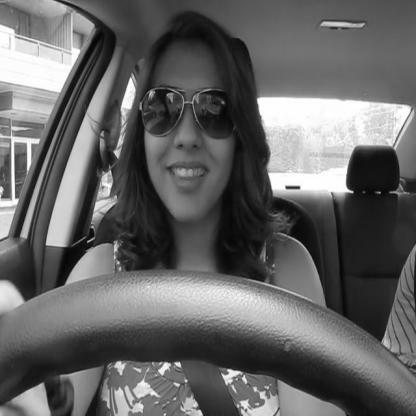seatbelt: (93, 3, 276, 416)
